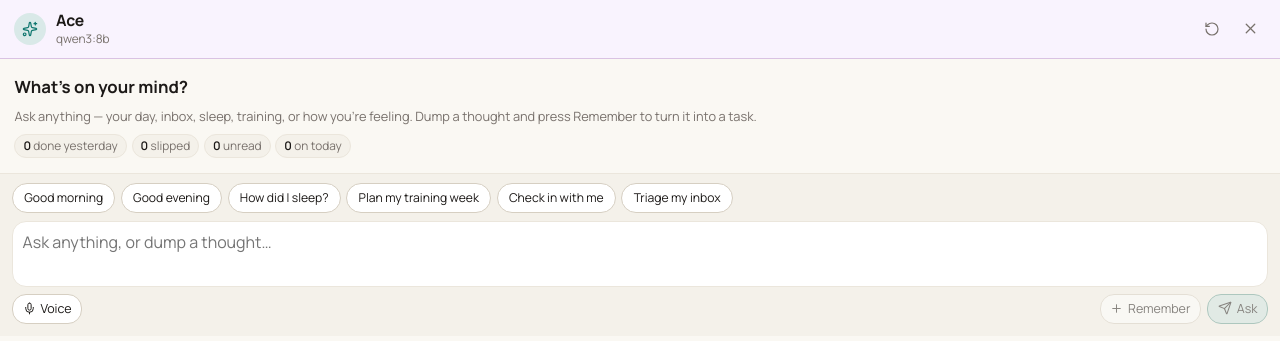
AceChat news summaries › asks for pasted text when the article cannot be read, without asking the model to guess
Type "Summarize https://publisher.com/park" into the text box named "Message Ace". click: (640, 254)
box: x1=12 y1=221 x2=1268 y2=287
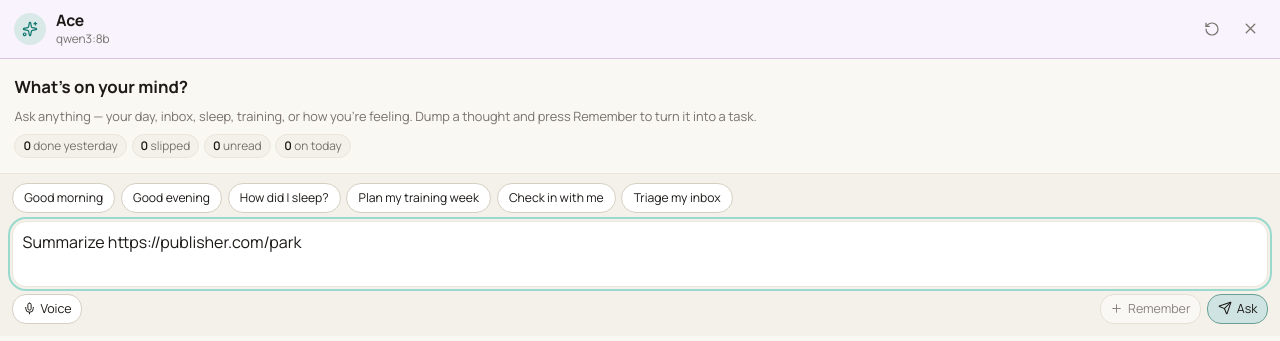
Click the button "Ask". click: click(1238, 309)
box: x1=1207 y1=294 x2=1268 y2=324
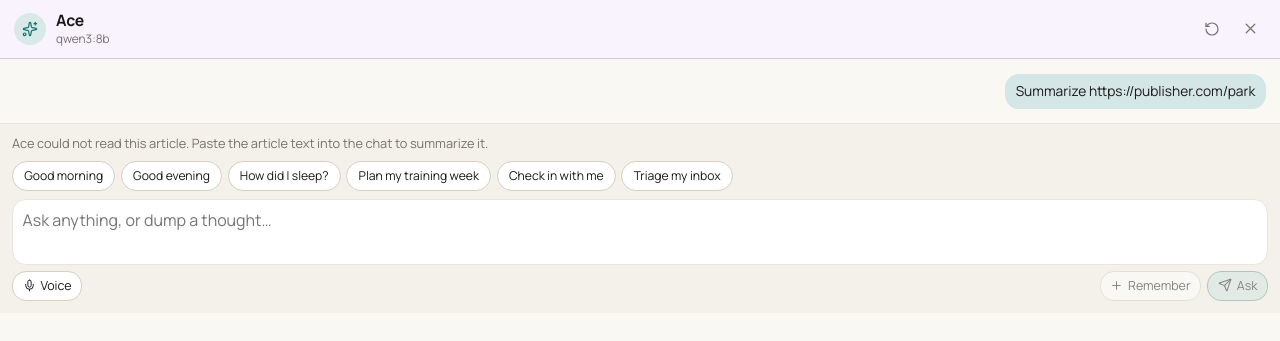
Expected: the text "Paste the article text into the chat" is shown, x1=12 y1=134 x2=488 y2=152
